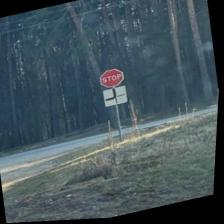Stop: (98, 68, 126, 90)
